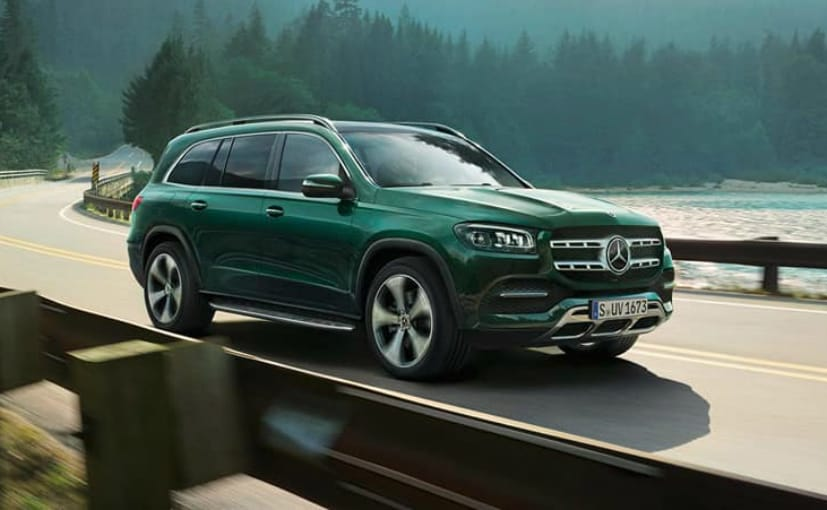number_plate: (587, 291, 653, 320)
